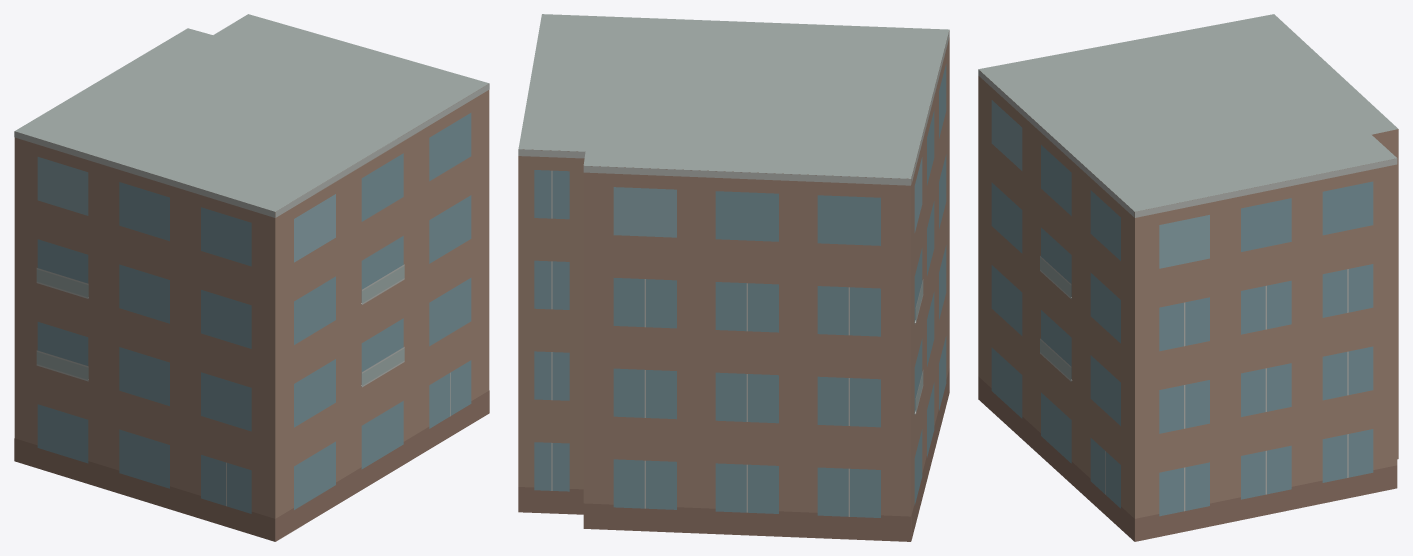
File: survey-upis-32732801.glb
3 views of the same model, side by side, from view 1: azimuth 30°, elevation 25°; view 2: azimuth 150°, elevation 25°; view 3: azimuth 270°, elevation 25° (orthographic). The views are drawn at different scales.
Visible parts, largest first — view 1: survey-upis-32732801.tmp; view 2: survey-upis-32732801.tmp; view 3: survey-upis-32732801.tmp.
Boxes of the visible parts, x1,y1,x2,y2 form: survey-upis-32732801.tmp: [14, 14, 489, 541]; survey-upis-32732801.tmp: [518, 14, 949, 541]; survey-upis-32732801.tmp: [978, 14, 1398, 541].
Size of the model in its own units: 16.72 by 13 by 15.01.
